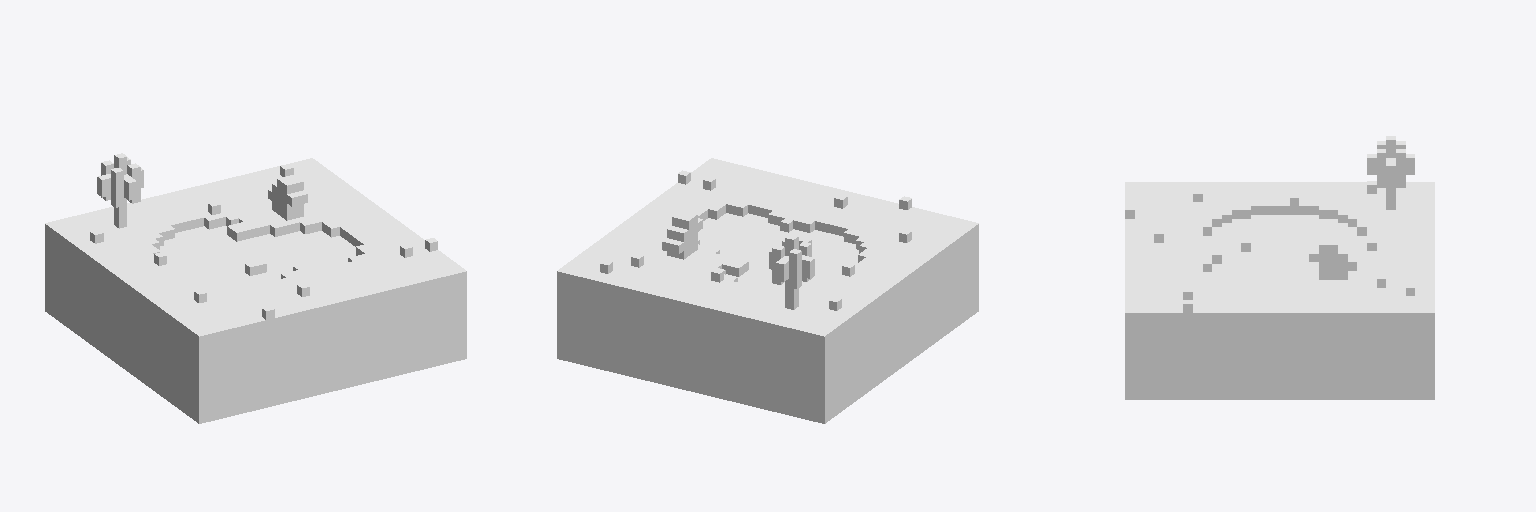
Rendered from Overworld_Land_12.obj.
3 renders of one model, left to right at view 1: azimuth 30°, elevation 25°; view 2: azimuth 150°, elevation 25°; view 3: azimuth 270°, elevation 25°, orthographic.
Visible parts, largest first — view 1: object 1; view 2: object 1; view 3: object 1.
Part boxes in pixels (x1,y1,x2,y2): object 1: (45, 153, 466, 423); object 1: (557, 158, 978, 423); object 1: (1125, 136, 1434, 399).
Size of the model in its own units: 3.2 by 1.8 by 3.2.